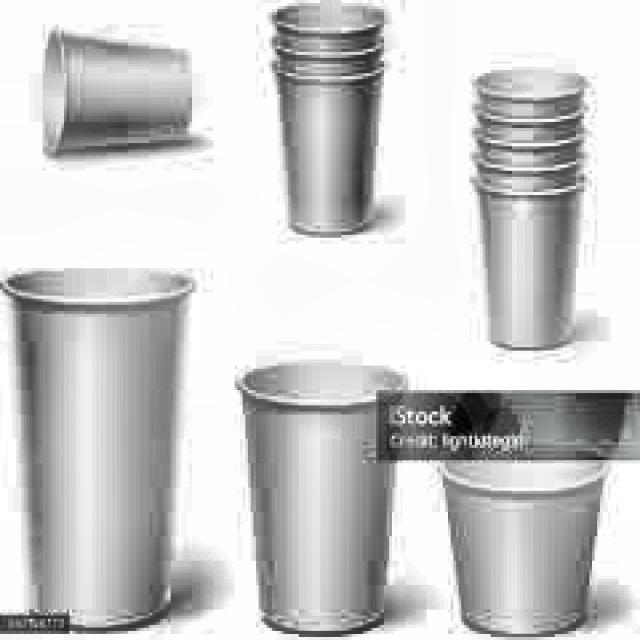Cup: (11, 242, 197, 634), (240, 354, 404, 639), (472, 74, 596, 364), (258, 0, 400, 242), (28, 38, 205, 162)
